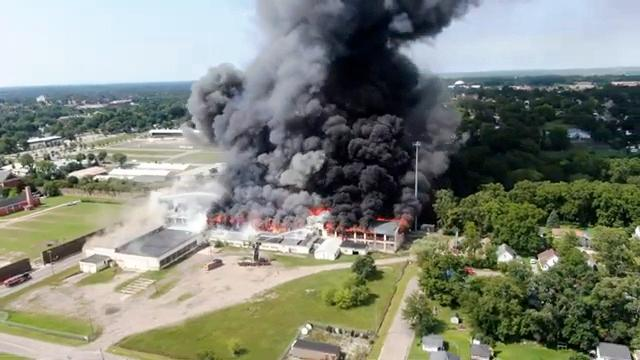smoke: (252, 0, 336, 120), (334, 0, 411, 119), (327, 113, 392, 218), (189, 62, 246, 130), (266, 122, 324, 184), (278, 185, 314, 218), (246, 188, 262, 221)
